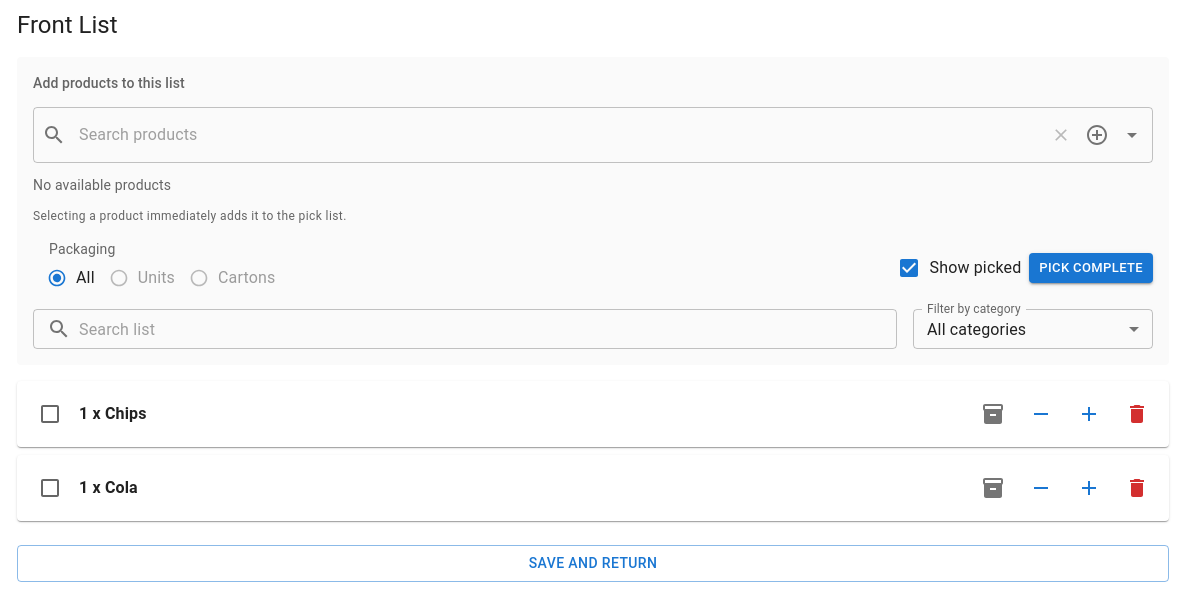
Test case: ActivePickListScreen extra branches › categoryFilter restricts visible items to selected category
The image size is (1187, 599).
Select "Drinks" in the dropdown labelled "Filter by category": (1033, 329) [913,309,1153,349]
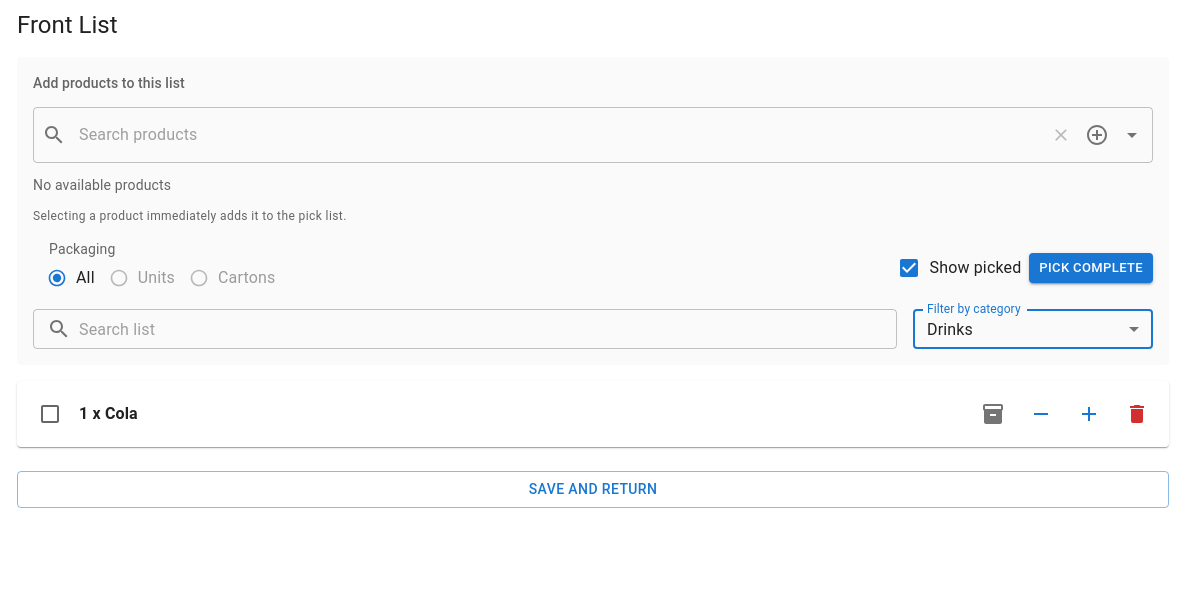
Expected: the text "1 x Cola" is shown, [79,404,138,423]
Expected: the text "Chips" is gone
